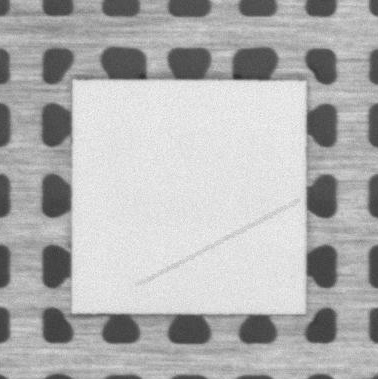DIE_CRACK: (138, 202, 297, 286)
